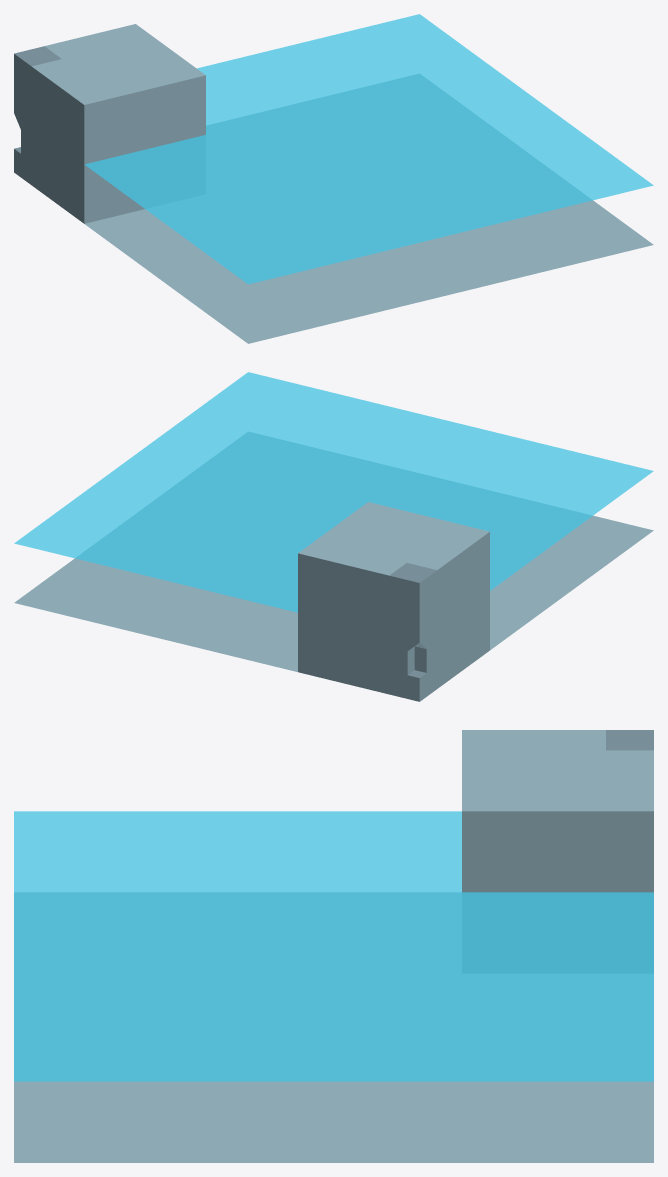
The model's file is fountainCornerInnerSquare.fbx.
3 views of the same model, one above another, from view 1: azimuth 30°, elevation 25°; view 2: azimuth 150°, elevation 25°; view 3: azimuth 270°, elevation 25° (orthographic). The views are drawn at different scales.
Visible parts, largest first — view 1: fountainCornerInnerSquare; view 2: fountainCornerInnerSquare; view 3: fountainCornerInnerSquare.
Part boxes in pixels (x1,y1,x2,y2): fountainCornerInnerSquare: [14, 14, 653, 343]; fountainCornerInnerSquare: [14, 372, 653, 701]; fountainCornerInnerSquare: [14, 730, 653, 1162].
Bounding box in the file's own units: 10 × 2.8 × 10.
